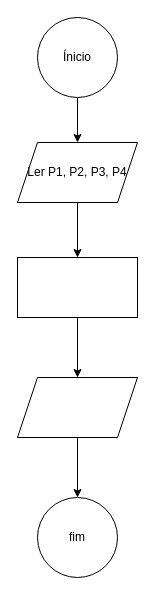
This 155x595 diagram has some shape labels left out. Each missing label, with the centre of its shape:
"Escrever media" goes at pixel 77 407.
"media=(P1+P2+P3+P4)/4" goes at pixel 77 287.
